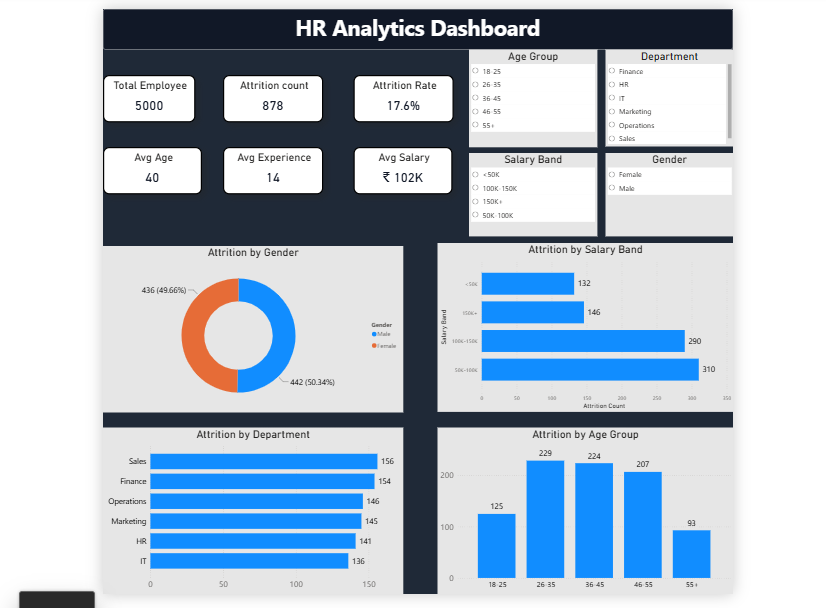

What the dashboard file says about the page in this screenshot:
{"tool":"powerbi","page":{"name":"Page 1","canvas":[1400,1300],"ordinal":0},"visuals":[{"type":"textbox","box":[0,0,1400,90],"z":0},{"type":"card","title":"Total Employee","fields":{"Values":["HR_Data.total emp"]},"box":[0,145,205,105],"z":1000},{"type":"card","title":"Attrition count","fields":{"Values":["HR_Data.Attrition Count"]},"box":[265,145,222.5,105],"z":2000},{"type":"card","title":"Attrition Rate","fields":{"Values":["HR_Data.Attrition Rate %"]},"box":[555,145,222.5,105],"z":3000},{"type":"card","title":"Avg Salary","fields":{"Values":["HR_Data.Avg Salary"]},"box":[557.5,305,220,105],"z":4000},{"type":"card","title":"Avg Age","fields":{"Values":["HR_Data.Avg Age"]},"box":[0,307.5,220,105],"z":5000},{"type":"card","title":"Avg Experience","fields":{"Values":["HR_Data.Avg Experience"]},"box":[265,305,222.5,105],"z":6000},{"type":"barChart","title":"Attrition  by Department","fields":{"Category":["HR_Data.Department"],"Y":["HR_Data.Attrition Count"]},"box":[0,930,667.5,370],"z":7000},{"type":"columnChart","title":"Attrition  by Age Group","fields":{"Category":["HR_Data.Age Group"],"Y":["HR_Data.Attrition Count"]},"box":[742.5,930,657.5,370],"z":8000},{"type":"clusteredBarChart","title":"Attrition  by Salary Band","fields":{"Category":["HR_Data.Salary Band"],"Y":["HR_Data.Attrition Count"]},"box":[742.5,520,657.5,375],"z":9000},{"type":"donutChart","title":"Attrition  by Gender","fields":{"Category":["HR_Data.Gender"],"Y":["HR_Data.Attrition Count"]},"box":[0,525,667.5,370],"z":10000},{"type":"listSlicer","fields":{"Values":["HR_Data.Department"]},"box":[1115,90,285,215],"z":11000},{"type":"listSlicer","fields":{"Values":["HR_Data.Gender"]},"box":[1115,320,285,185],"z":12000},{"type":"listSlicer","fields":{"Values":["HR_Data.Salary Band"]},"box":[812.5,320,285,185],"z":13000},{"type":"listSlicer","fields":{"Values":["HR_Data.Age Group"]},"box":[812.5,90,285,217.5],"z":14000}]}

Visuals, with their boxes in screenshot pixels (x1, y1, x2, y2):
textbox: 105 9 729 49
"Total Employee" card: 105 73 197 120
"Attrition count" card: 223 73 323 120
"Attrition Rate" card: 353 73 452 120
"Avg Salary" card: 354 144 452 191
"Avg Age" card: 105 146 203 192
"Avg Experience" card: 223 144 323 191
"Attrition  by Department" barChart: 105 423 403 588
"Attrition  by Age Group" columnChart: 436 423 729 588
"Attrition  by Salary Band" clusteredBarChart: 436 240 729 407
"Attrition  by Gender" donutChart: 105 242 403 407
listSlicer - HR_Data.Department: 602 49 729 144
listSlicer - HR_Data.Gender: 602 151 729 234
listSlicer - HR_Data.Salary Band: 467 151 594 234
listSlicer - HR_Data.Age Group: 467 49 594 146
